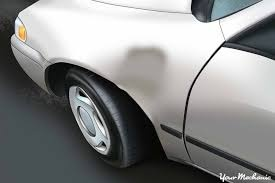Dent: (120, 46, 170, 112)
